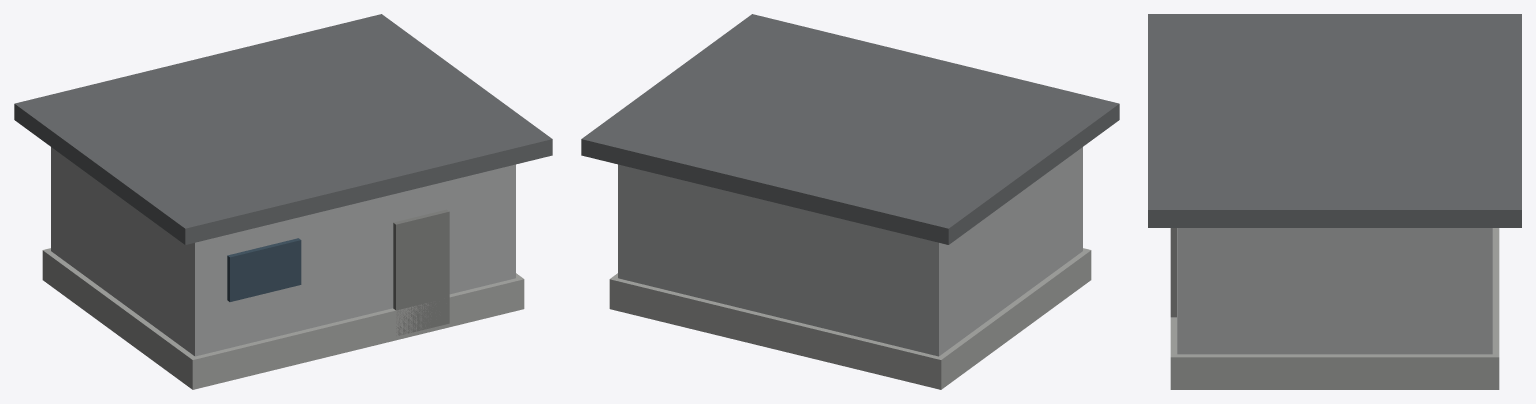
File: bld_shed.glb
3 renders of one model, left to right at view 1: azimuth 30°, elevation 25°; view 2: azimuth 150°, elevation 25°; view 3: azimuth 270°, elevation 25°, orthographic. The views are drawn at different scales.
Parts seen in each view (by area): view 1: bld_shed.glb; view 2: bld_shed.glb; view 3: bld_shed.glb.
Part boxes in pixels (bbox=[...]): bld_shed.glb: bbox=[14, 14, 552, 389]; bld_shed.glb: bbox=[581, 14, 1119, 389]; bld_shed.glb: bbox=[1148, 14, 1521, 389].
Bounding box in the file's own units: 10.3 × 4.64 × 8.3.
